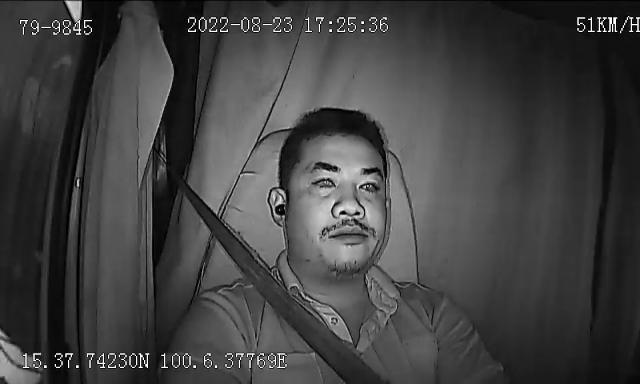SafeDriving: (353, 170, 386, 198), (308, 168, 340, 195)
Seatbelt: (184, 180, 390, 384)
